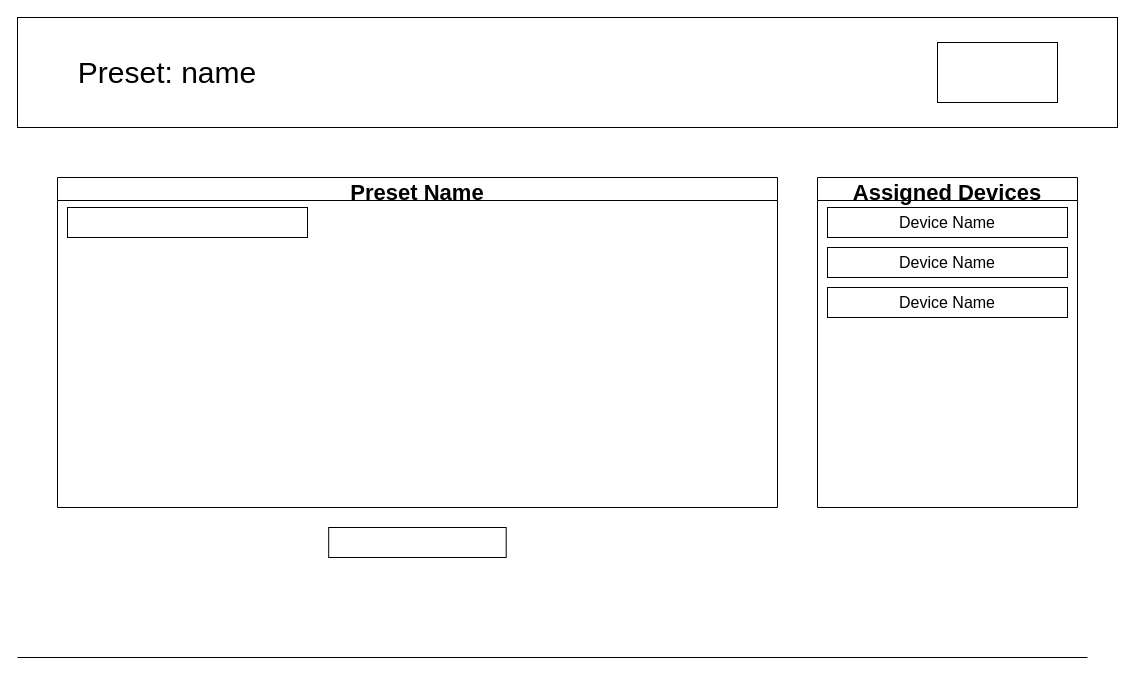
Image size: 1135x676. Some labels were removed from this diagram. The centre of each missing label's shape, as x and y in pixels:
"configuration characteristics" belongs at (187,222).
"Delete Preset" belongs at (417,542).
"Github Link" belongs at (997,72).
